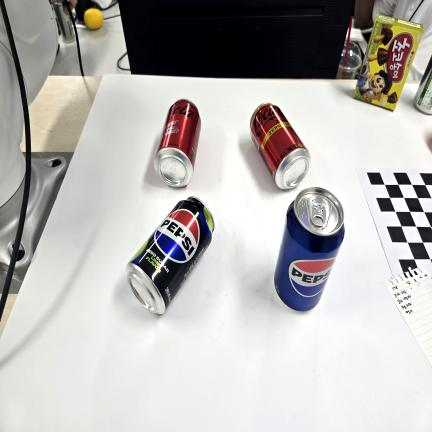can_coke_decaf: (250, 104, 310, 189)
can_coke_zero: (154, 99, 201, 187)
can_pepsi: (274, 187, 344, 311)
can_pepsi_zero: (127, 196, 214, 314)
